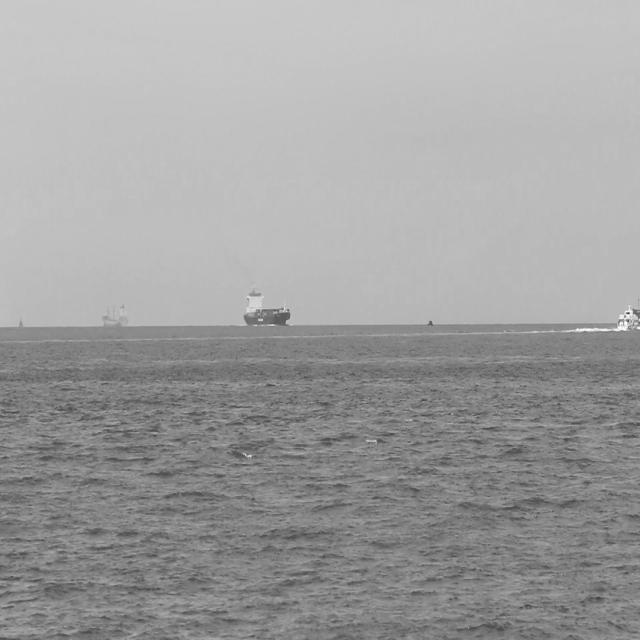ship: (242, 278, 293, 330), (100, 294, 132, 328), (615, 296, 640, 334)
